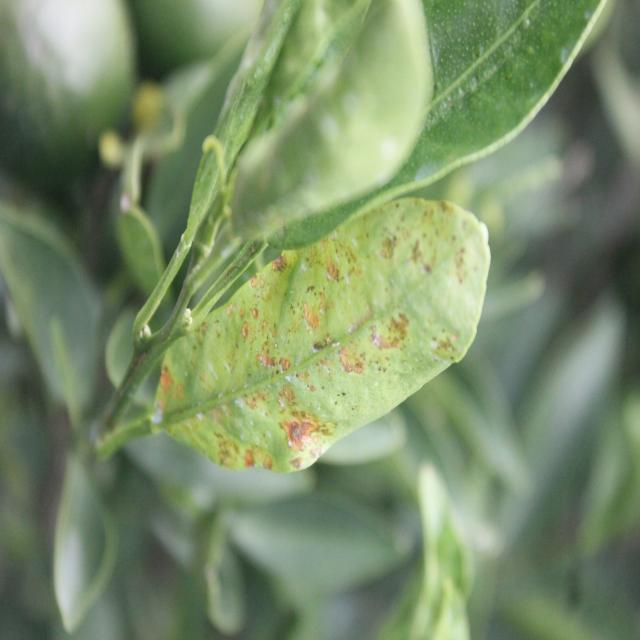canker: (150, 194, 483, 483)
